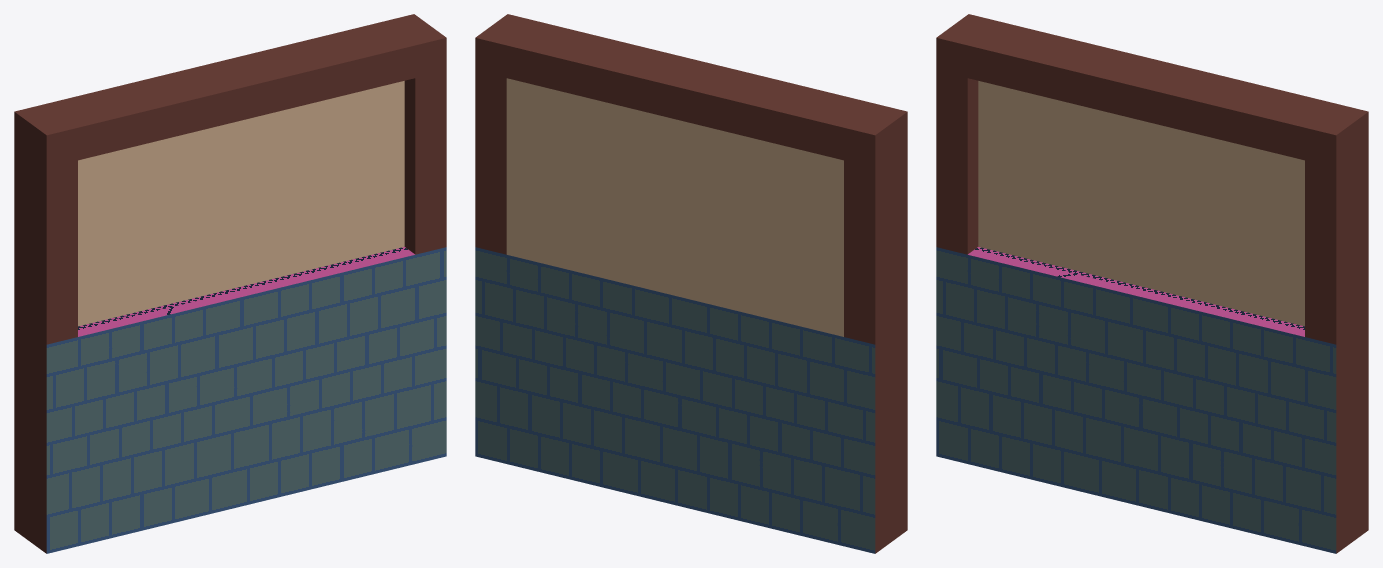
The model's file is pixel_art_128x128_wall-town.glb.
The picture shows the model from 3 angles, left to right: view 1: azimuth 30°, elevation 25°; view 2: azimuth 150°, elevation 25°; view 3: azimuth 330°, elevation 25°; orthographic projection.
Parts seen in each view (by area): view 1: Cube; view 2: Cube; view 3: Cube.
Part boxes in pixels (box(x1,y1,x2,y2)): Cube: box(14, 14, 446, 553); Cube: box(475, 14, 907, 553); Cube: box(936, 14, 1368, 553).
Size of the model in its own units: 2 by 2 by 0.2812.
Materials: 1 (1 with a texture image).
